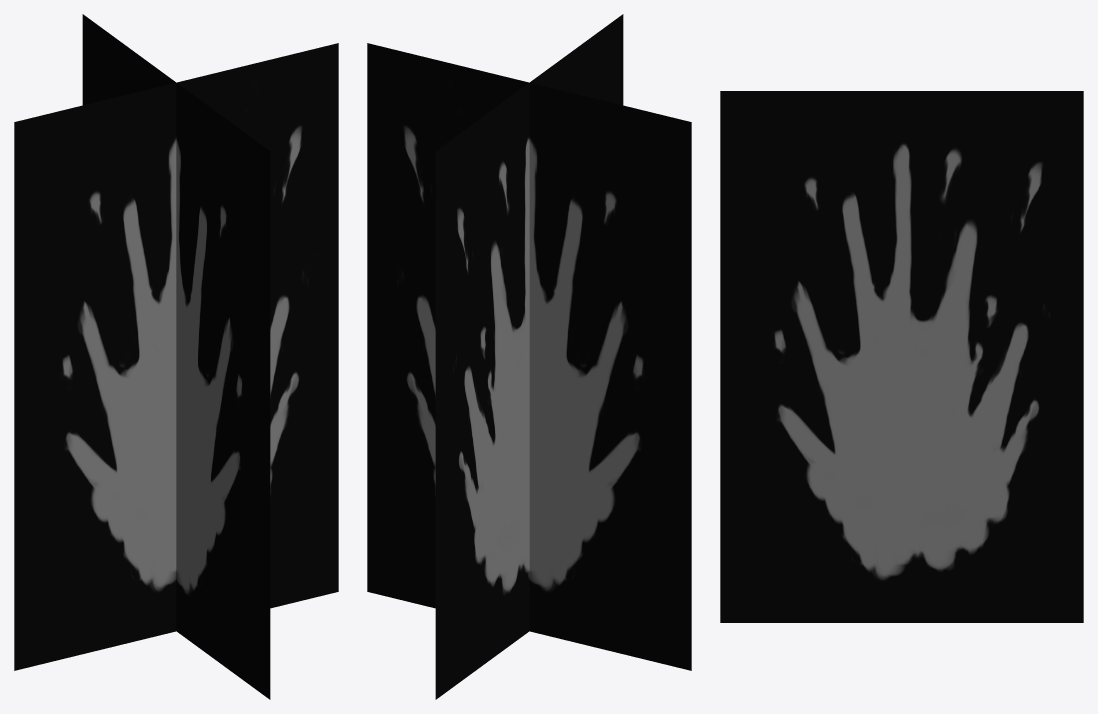
File: effect_models-08.FBX
3 views of the same model, side by side, from view 1: azimuth 30°, elevation 25°; view 2: azimuth 150°, elevation 25°; view 3: azimuth 270°, elevation 25° (orthographic). The views are drawn at different scales.
Visible parts, largest first — view 1: Plane002; view 2: Plane002; view 3: Plane002.
Boxes of the visible parts, <box> form: Plane002: <box>14,14,338,699</box>; Plane002: <box>367,14,691,699</box>; Plane002: <box>720,91,1083,622</box>.
Bounding box in the file's own units: 25.54 × 41.25 × 25.54.
Materials: 1 (1 with a texture image).
